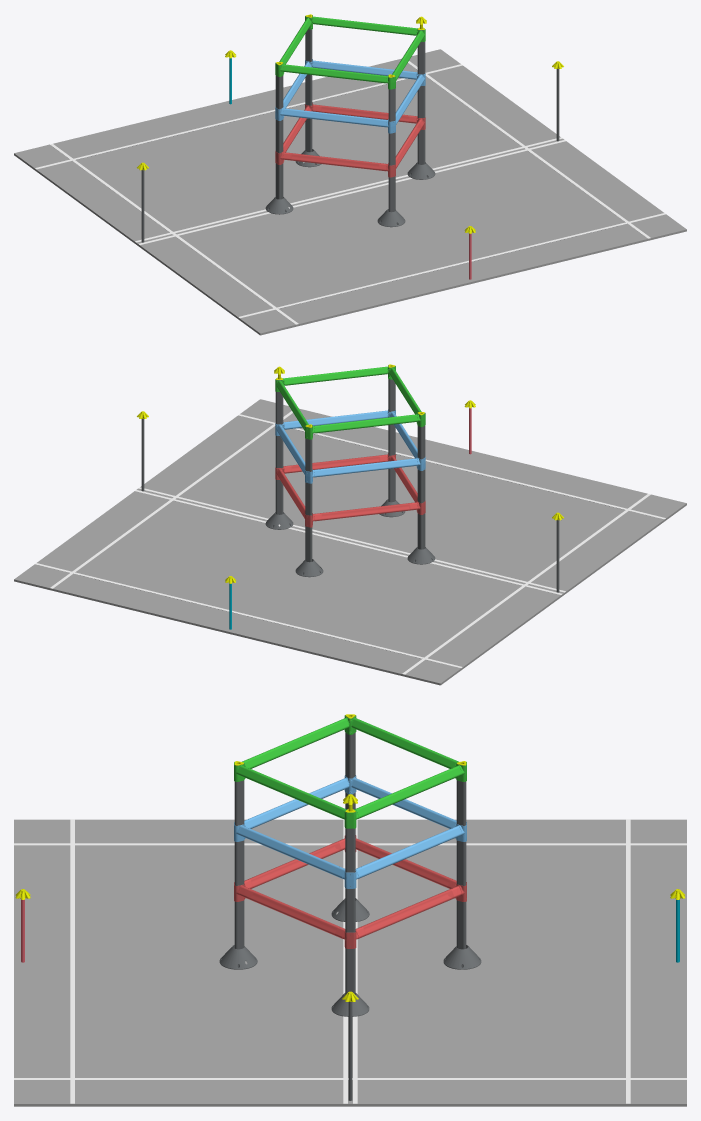
File: Fieldnowalls.fbx
3 renders of one model, top to bottom at view 1: azimuth 30°, elevation 25°; view 2: azimuth 150°, elevation 25°; view 3: azimuth 270°, elevation 25°, orthographic. The views are drawn at different scales.
Visible parts, largest first — view 1: Fieldnowalls; view 2: Fieldnowalls; view 3: Fieldnowalls.
Boxes of the visible parts, box(x1,y1,x2,y2) form: Fieldnowalls: box(14, 14, 686, 335); Fieldnowalls: box(14, 364, 686, 685); Fieldnowalls: box(14, 714, 686, 1106).
Size of the model in its own units: 361304 by 128315 by 361304.
